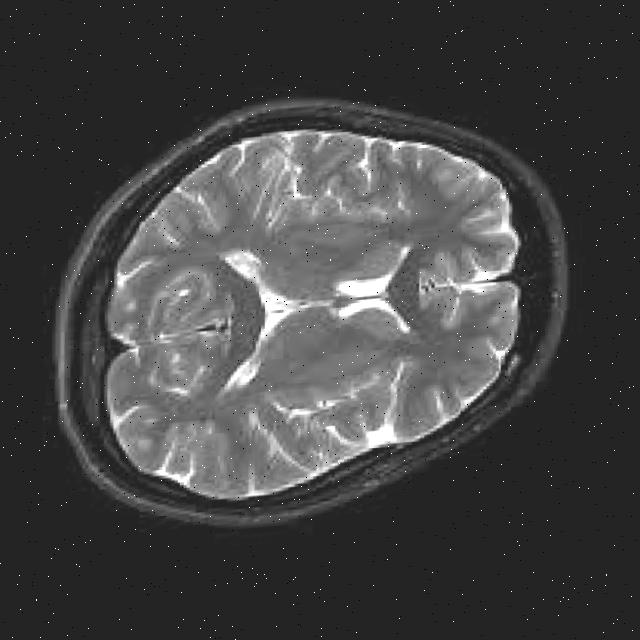NoTumor: (82, 101, 547, 519)
